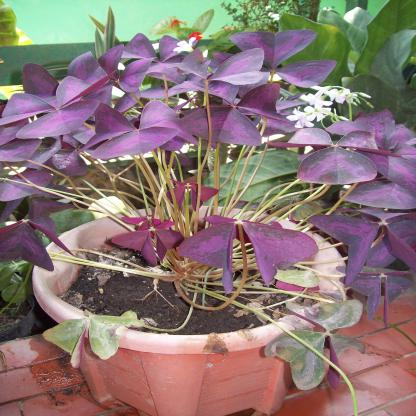Kupu-Kupu: (41, 54, 345, 151), (298, 117, 416, 263), (1, 98, 99, 247), (135, 219, 302, 295)
